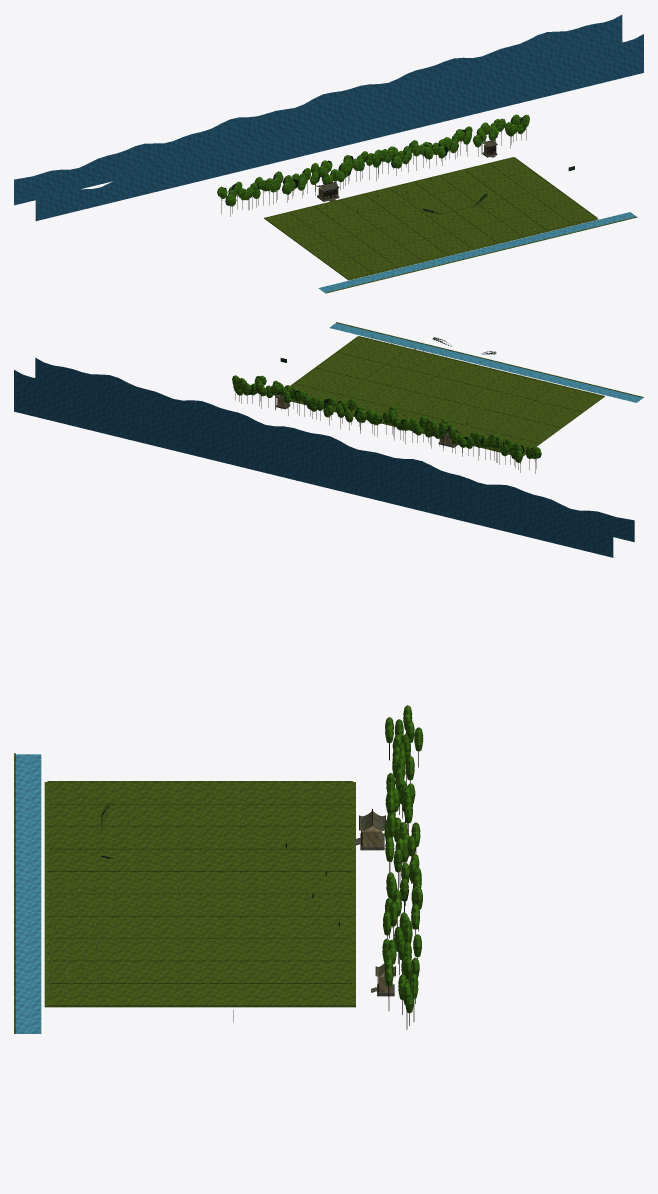
File: JingXi_Aligned_Summer.glb
3 views of the same model, one above another, from view 1: azimuth 30°, elevation 25°; view 2: azimuth 150°, elevation 25°; view 3: azimuth 270°, elevation 25° (orthographic). The views are drawn at different scales.
Parts seen in each view (by area): view 1: Summer_MountainRidge_mountain, Summer_FieldEarth_earth, Summer_TreeCrowns_crown, Summer_YuquanCanal_water, Summer_CrossBanks_earth, Summer_FieldBanks_earth, Summer_Rice_Leaf_leaf, Summer_Rice_Culm_leaf, Summer_TreeTrunks_wood, Summer_NearBank_earth, Summer_TreeCrowns_leaf; view 2: Summer_MountainRidge_mountain, Summer_FieldEarth_earth, Summer_TreeCrowns_crown, Summer_YuquanCanal_water, Summer_CrossBanks_earth, Summer_FieldBanks_earth, Summer_TreeTrunks_wood, Summer_Rice_Leaf_leaf, Summer_Rice_Culm_leaf, Summer_NearBank_earth, Summer_TreeCrowns_leaf; view 3: Summer_FieldEarth_earth, Summer_TreeCrowns_crown, Summer_YuquanCanal_water, Summer_FieldBanks_earth, Summer_Rice_Leaf_leaf, Summer_CrossBanks_earth, Summer_Rice_Culm_leaf.
Part boxes in pixels (x1=…): Summer_MountainRidge_mountain: x1=14, y1=15, x2=643, y2=220; Summer_FieldEarth_earth: x1=264, y1=157, x2=598, y2=280; Summer_TreeCrowns_crown: x1=217, y1=114, x2=529, y2=206; Summer_YuquanCanal_water: x1=318, y1=212, x2=636, y2=292; Summer_CrossBanks_earth: x1=265, y1=157, x2=596, y2=278; Summer_FieldBanks_earth: x1=264, y1=157, x2=597, y2=279; Summer_Rice_Leaf_leaf: x1=279, y1=161, x2=586, y2=271; Summer_Rice_Culm_leaf: x1=281, y1=162, x2=586, y2=275; Summer_TreeTrunks_wood: x1=221, y1=129, x2=526, y2=216; Summer_NearBank_earth: x1=325, y1=217, x2=637, y2=293; Summer_TreeCrowns_leaf: x1=224, y1=117, x2=524, y2=205; Summer_MountainRidge_mountain: x1=14, y1=358, x2=634, y2=557; Summer_FieldEarth_earth: x1=276, y1=336, x2=604, y2=456; Summer_TreeCrowns_crown: x1=232, y1=375, x2=541, y2=462; Summer_YuquanCanal_water: x1=329, y1=323, x2=643, y2=402; Summer_CrossBanks_earth: x1=291, y1=336, x2=603, y2=453; Summer_FieldBanks_earth: x1=290, y1=336, x2=604, y2=455; Summer_TreeTrunks_wood: x1=235, y1=390, x2=536, y2=473; Summer_Rice_Leaf_leaf: x1=306, y1=337, x2=594, y2=440; Summer_Rice_Culm_leaf: x1=304, y1=336, x2=588, y2=445; Summer_NearBank_earth: x1=336, y1=322, x2=643, y2=397; Summer_TreeCrowns_leaf: x1=235, y1=376, x2=541, y2=458; Summer_FieldEarth_earth: x1=44, y1=782, x2=355, y2=1007; Summer_TreeCrowns_crown: x1=382, y1=705, x2=423, y2=1013; Summer_YuquanCanal_water: x1=16, y1=754, x2=41, y2=1033; Summer_FieldBanks_earth: x1=48, y1=781, x2=352, y2=1006; Summer_Rice_Leaf_leaf: x1=46, y1=785, x2=341, y2=994; Summer_CrossBanks_earth: x1=47, y1=781, x2=353, y2=1005; Summer_Rice_Culm_leaf: x1=47, y1=788, x2=341, y2=996.
Bounding box in the file's own units: 195 × 13.26 × 95.15.
Materials: 16 (16 with a texture image).
